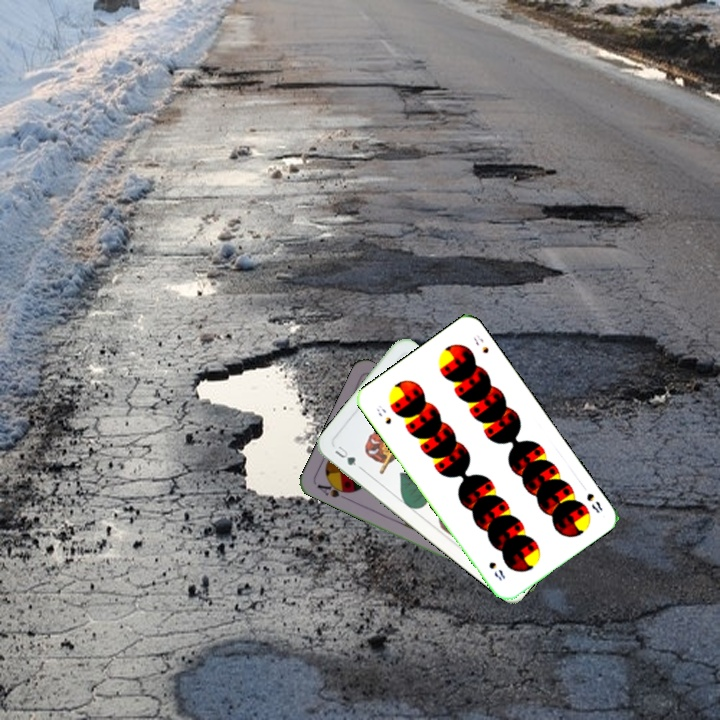GU: (330, 442, 360, 468)
S8: (582, 489, 605, 516), (372, 401, 394, 427)
SA: (313, 478, 353, 501)
